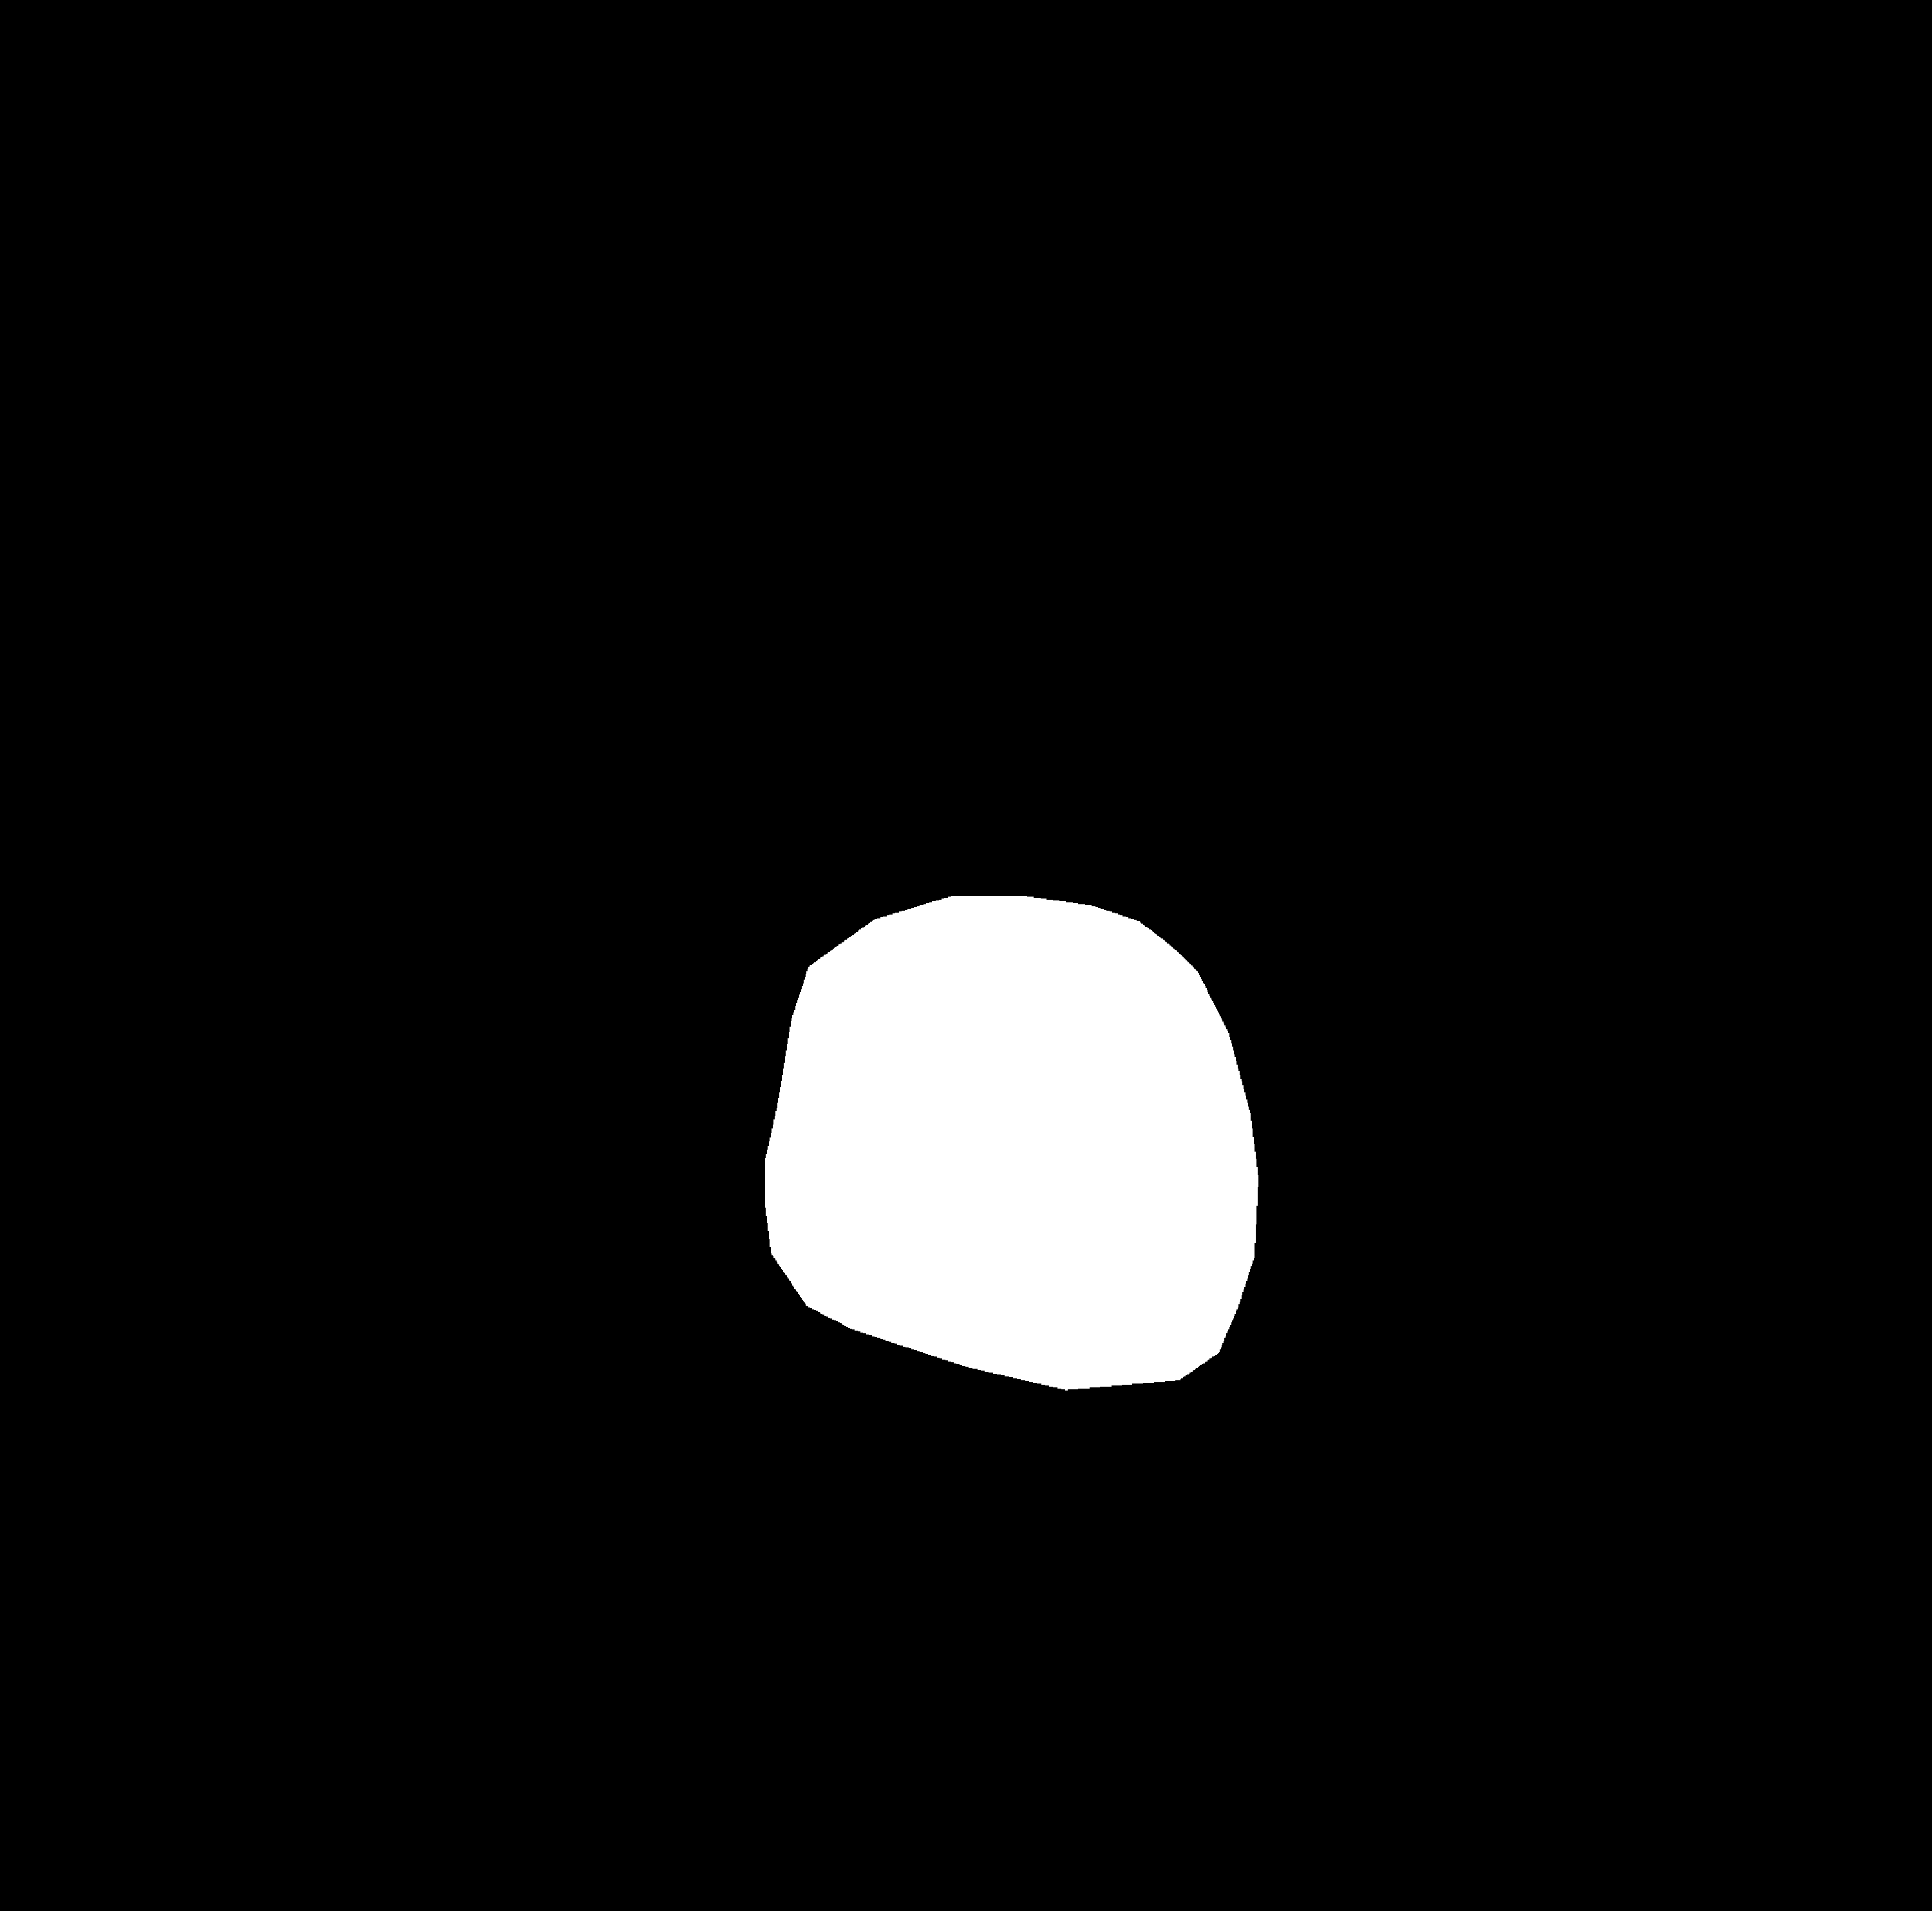heart: (775, 901, 1258, 1412)
left_lung: (262, 257, 809, 1643)
right_lung: (1011, 255, 1585, 1617)
